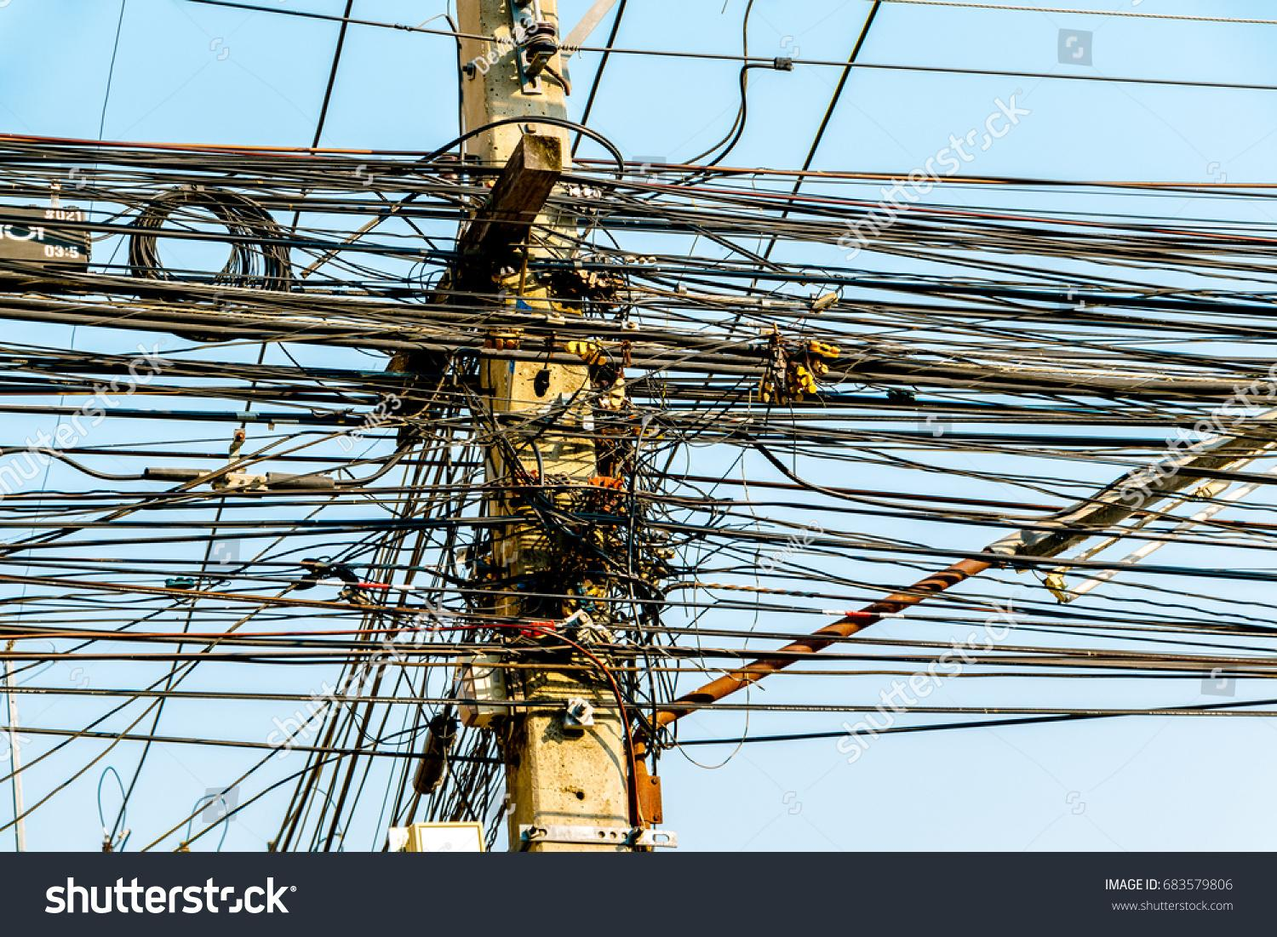wires-only: (0, 139, 1277, 752)
